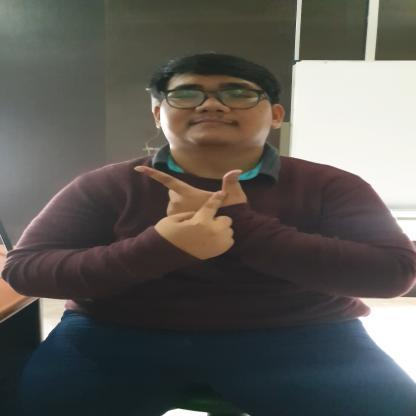Y: (124, 165, 252, 263)
